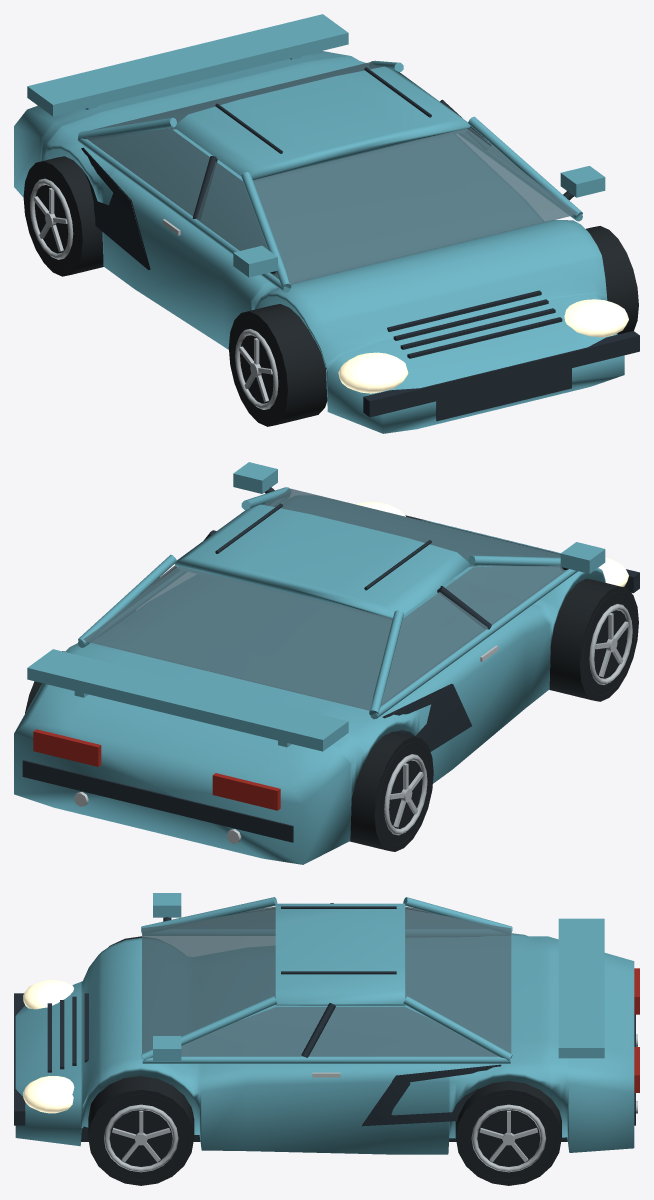
The model's file is enduro.glb.
The picture shows the model from 3 angles, top to bottom: view 1: azimuth 30°, elevation 25°; view 2: azimuth 150°, elevation 25°; view 3: azimuth 270°, elevation 25°; orthographic projection. The views are drawn at different scales.
Parts seen in each view (by area): view 1: exterior-paint, windows, black-trim, tire-front-left, tire-rear-left, headlights, tire-front-right, rim-front-left, rim-rear-left; view 2: exterior-paint, windows, black-trim, tire-front-left, tire-rear-left, taillights, rim-front-left, rim-rear-left, headlights; view 3: exterior-paint, windows, tire-front-right, tire-rear-right, black-trim, headlights, rim-front-right, rim-rear-right, taillights.
Boxes of the visible parts, x1,y1,x2,y2 form: exterior-paint: [14, 14, 624, 433]; windows: [85, 62, 577, 284]; black-trim: [81, 67, 639, 421]; tire-front-left: [228, 304, 327, 426]; tire-rear-left: [23, 156, 103, 276]; headlights: [338, 299, 628, 393]; tire-front-right: [586, 226, 638, 334]; rim-front-left: [235, 329, 278, 409]; rim-rear-left: [30, 178, 73, 259]; exterior-paint: [14, 462, 605, 864]; windows: [83, 488, 567, 710]; black-trim: [22, 487, 639, 842]; tire-front-left: [549, 578, 638, 701]; tire-rear-left: [350, 731, 433, 851]; taillights: [33, 729, 280, 810]; rim-front-left: [589, 604, 632, 684]; rim-rear-left: [384, 754, 427, 835]; headlights: [356, 501, 628, 586]; exterior-paint: [15, 893, 634, 1154]; windows: [142, 906, 511, 1056]; tire-front-right: [88, 1076, 194, 1185]; tire-rear-right: [455, 1081, 561, 1185]; black-trim: [14, 903, 635, 1141]; headlights: [23, 980, 74, 1113]; rim-front-right: [104, 1104, 178, 1172]; rim-rear-right: [471, 1104, 546, 1172]; taillights: [634, 968, 639, 1092].
Size of the model in its own units: 2.11 by 1.06 by 3.54.
